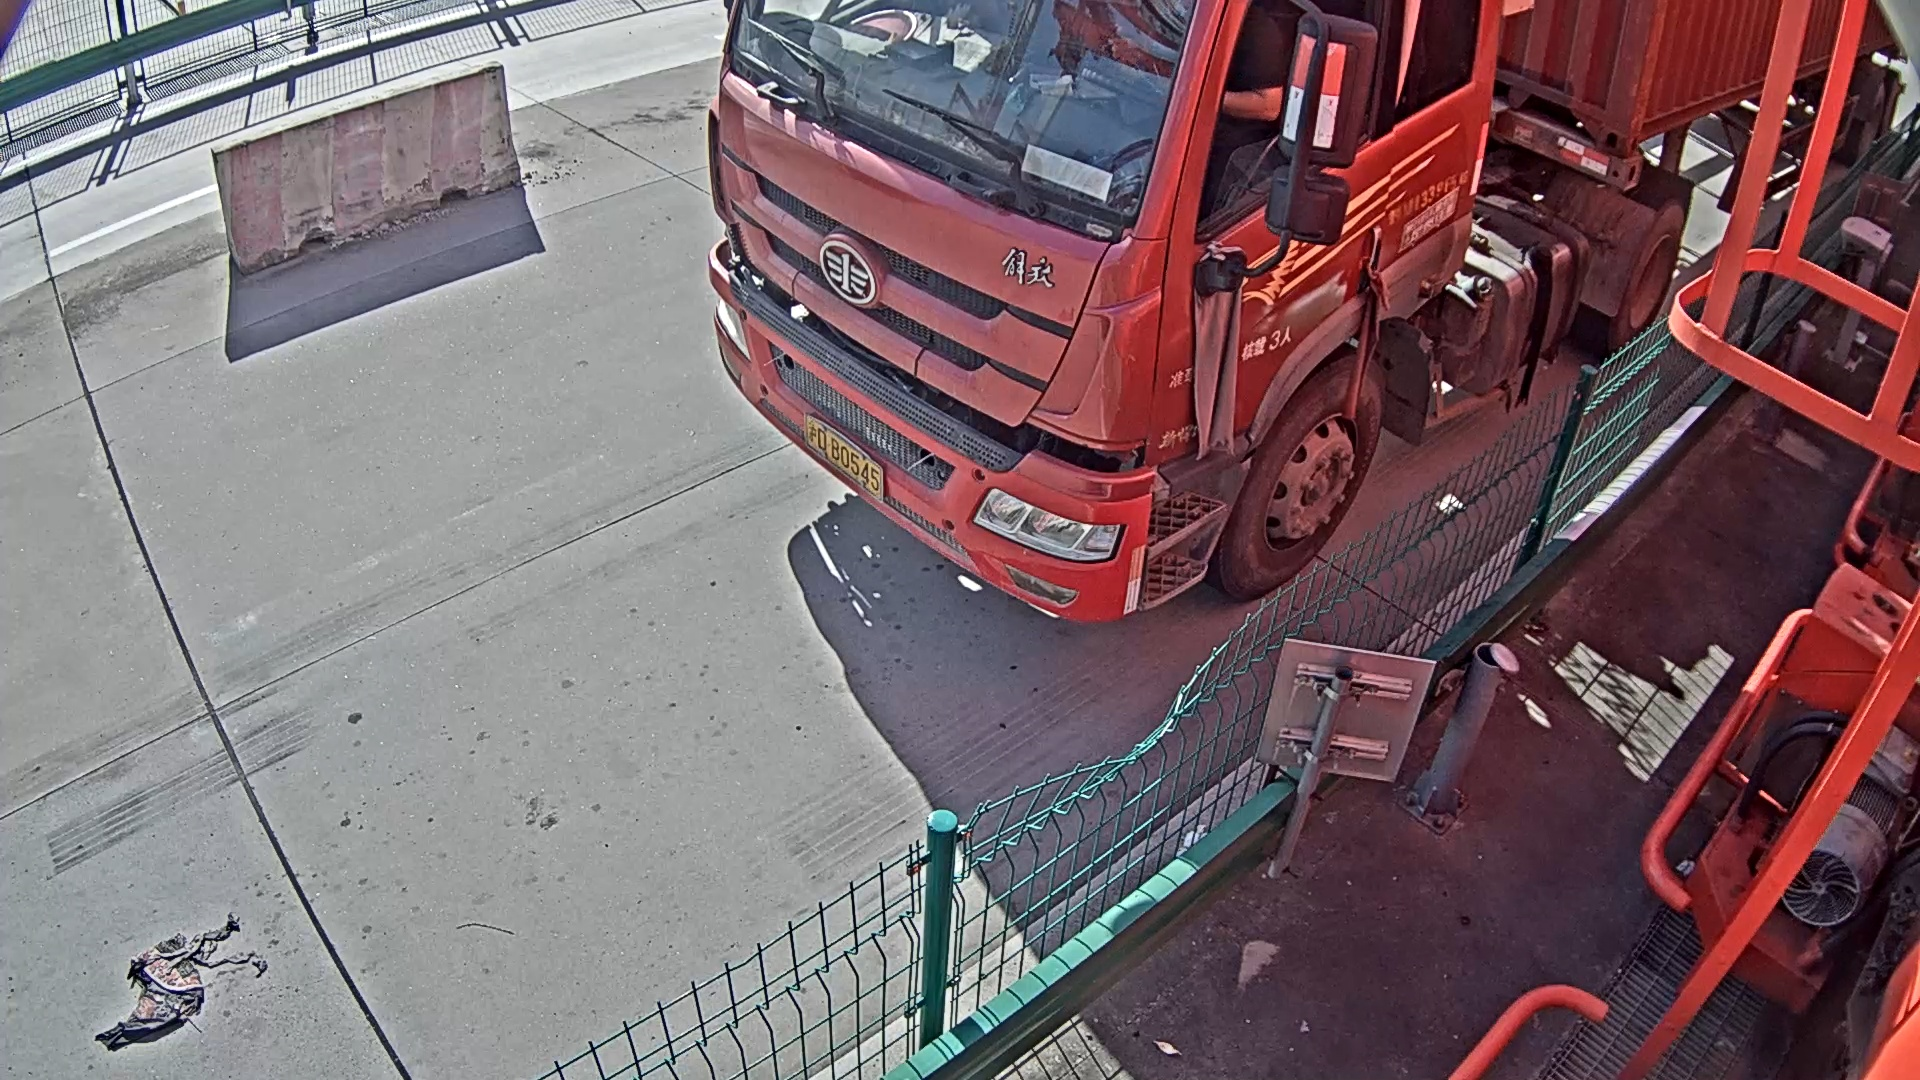head: (704, 1, 1500, 615)
plate: (802, 418, 894, 501)
